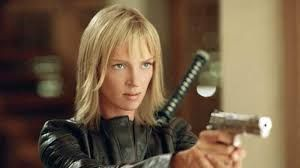gun: (192, 98, 279, 156)
